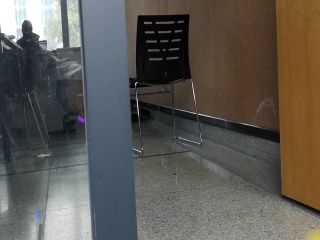room: (3, 3, 316, 233)
